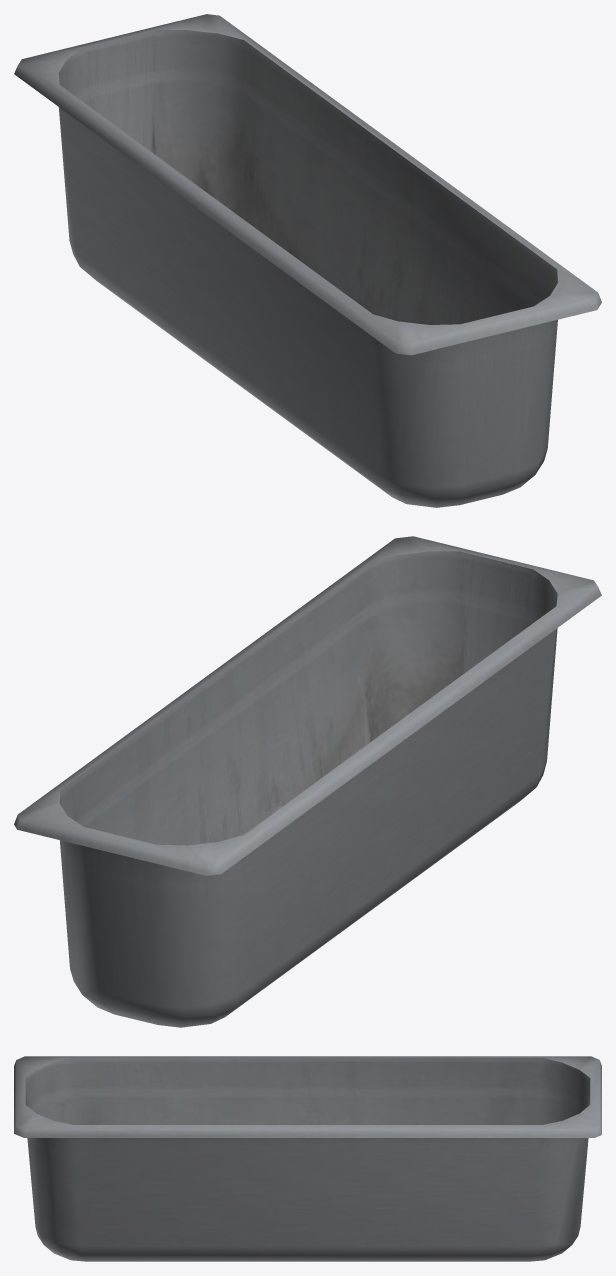
File: SM_Hotel_Pan150_2_4_01.glb
3 views of the same model, one above another, from view 1: azimuth 30°, elevation 25°; view 2: azimuth 150°, elevation 25°; view 3: azimuth 270°, elevation 25° (orthographic). The views are drawn at different scales.
Parts seen in each view (by area): view 1: SM_Hotel_Pan150_2_4_01; view 2: SM_Hotel_Pan150_2_4_01; view 3: SM_Hotel_Pan150_2_4_01.
Part boxes in pixels (box(x1,y1,x2,y2)): SM_Hotel_Pan150_2_4_01: box(14, 14, 601, 507); SM_Hotel_Pan150_2_4_01: box(14, 536, 601, 1027); SM_Hotel_Pan150_2_4_01: box(14, 1056, 601, 1261).
Size of the model in its own units: 0.1611 by 0.1492 by 0.53.
Materials: 1 (1 with a texture image).
